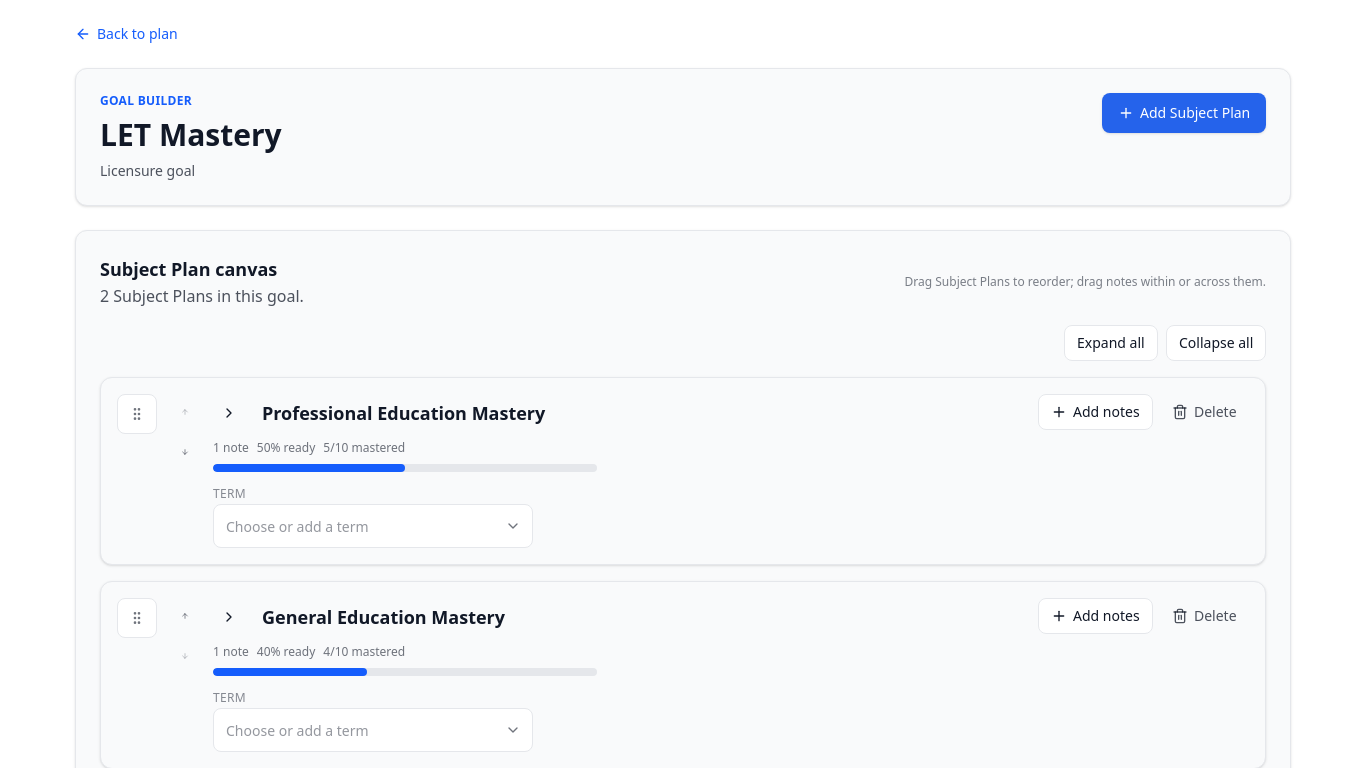
Test: StudyPlanBuilderPageClient › renders the goal builder canvas with subject blocks and notes, collapsed by default
Check: the heading "LET Mastery" is shown, box [100,117,282,153]
Check: the 1st field showing "Professional Education Mastery" is shown, box [253,394,1026,432]
Click the button "Expand all".
click(1111, 343)  # box [1064,325,1158,361]
(page scrolled)
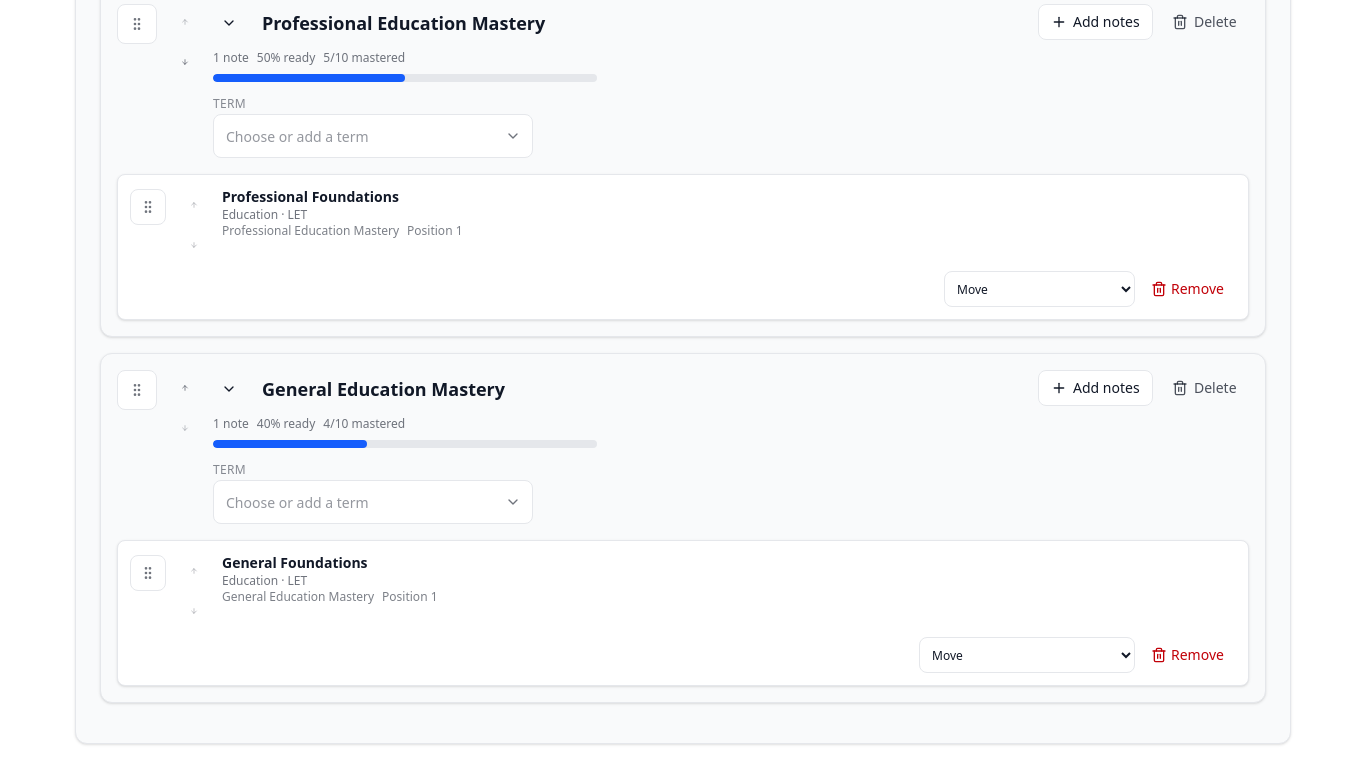
Check: the text "Professional Foundations" is shown, box [222,187,399,206]
Check: the text "General Foundations" is shown, box [222,553,368,572]
